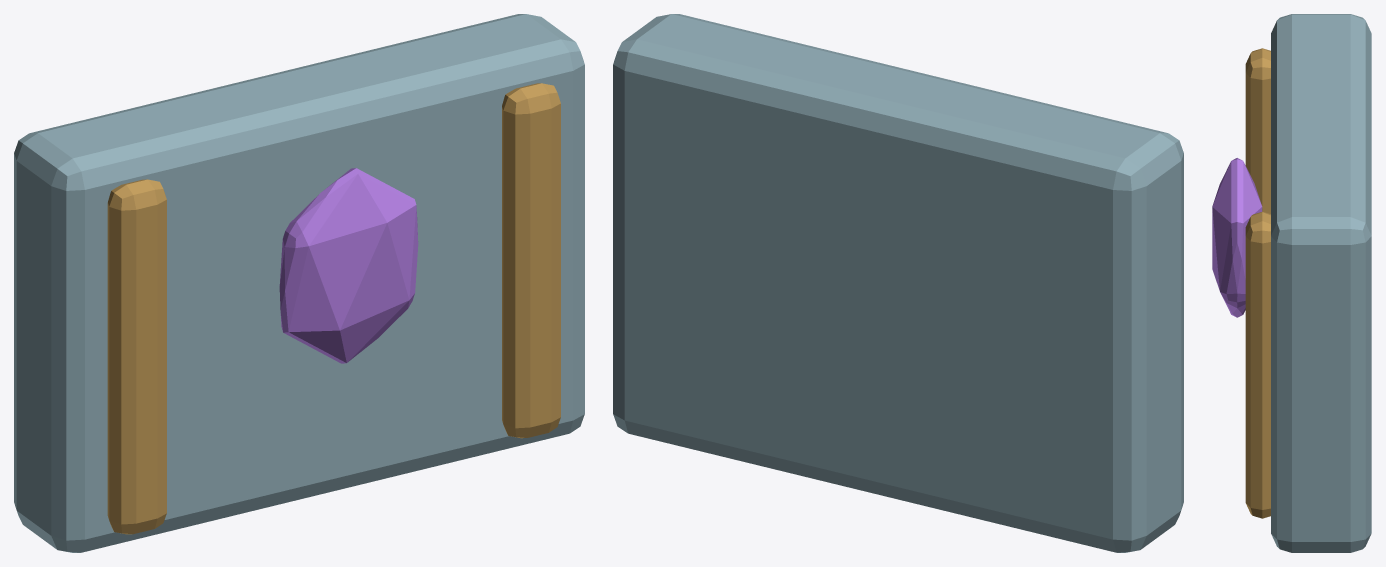
The model's file is armor_ironheart.glb.
3 renders of one model, left to right at view 1: azimuth 30°, elevation 25°; view 2: azimuth 150°, elevation 25°; view 3: azimuth 270°, elevation 25°, orthographic. The views are drawn at different scales.
Visible parts, largest first — view 1: Breastplate, RaisedRib, IronheartGem; view 2: Breastplate; view 3: Breastplate, RaisedRib, IronheartGem.
Part boxes in pixels (bbox=[...]): Breastplate: bbox=[14, 14, 584, 552]; RaisedRib: bbox=[107, 83, 560, 534]; IronheartGem: bbox=[279, 168, 418, 363]; Breastplate: bbox=[613, 14, 1183, 552]; Breastplate: bbox=[1271, 14, 1371, 552]; RaisedRib: bbox=[1245, 48, 1270, 518]; IronheartGem: bbox=[1212, 158, 1262, 317].
Bounding box in the file's own units: 0.62 × 0.44 × 0.1898.
